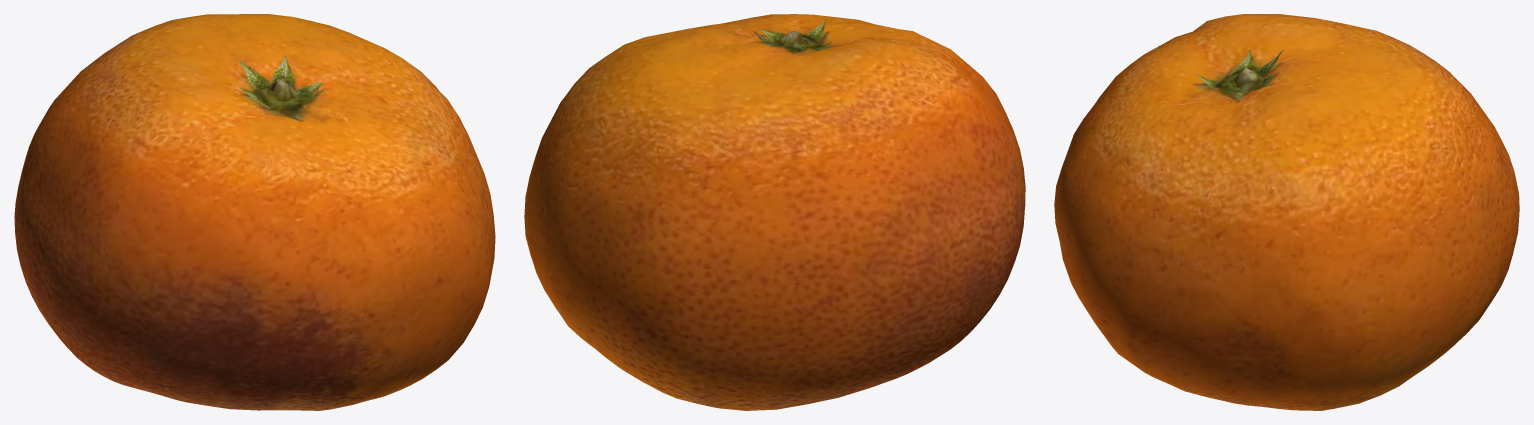
File: orange.glb
3 renders of one model, left to right at view 1: azimuth 30°, elevation 25°; view 2: azimuth 150°, elevation 25°; view 3: azimuth 270°, elevation 25°, orthographic. The views are drawn at different scales.
Parts seen in each view (by area): view 1: Object_2; view 2: Object_2; view 3: Object_2.
Part boxes in pixels (x1=…): Object_2: x1=14, y1=14, x2=495, y2=410; Object_2: x1=524, y1=14, x2=1025, y2=410; Object_2: x1=1054, y1=14, x2=1519, y2=410.
Size of the model in its own units: 0.0748 by 0.0547 by 0.075.
Materials: 1 (1 with a texture image).
